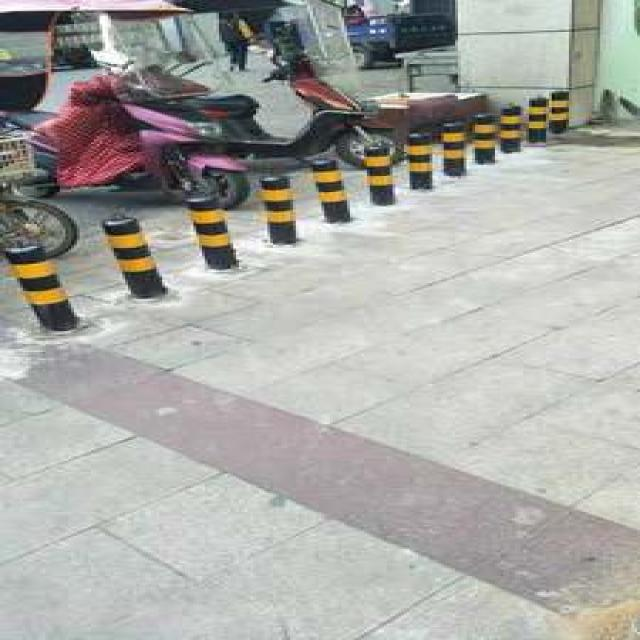motorbike: (3, 40, 250, 208)
warning_column: (0, 240, 80, 328), (100, 210, 165, 298), (182, 192, 236, 269), (256, 173, 296, 243), (310, 157, 353, 222), (358, 139, 398, 203), (401, 131, 435, 189), (436, 118, 470, 176), (466, 112, 498, 163), (492, 104, 523, 155), (521, 96, 546, 142)
